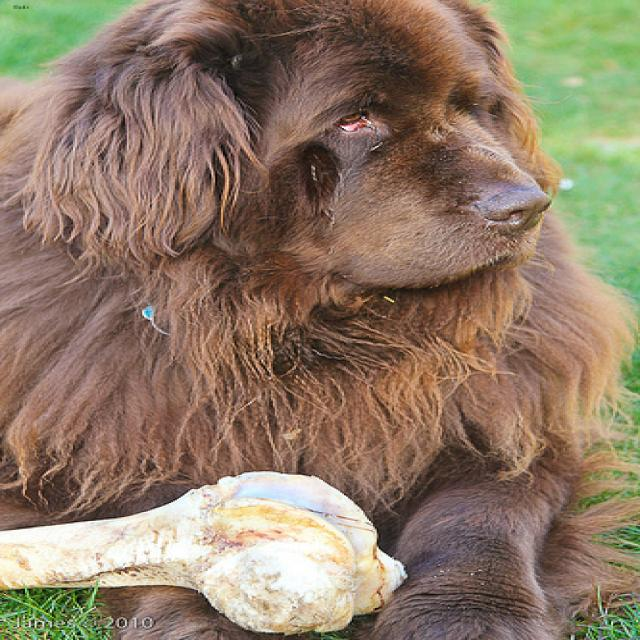dog-newfoundland: (2, 1, 636, 637)
